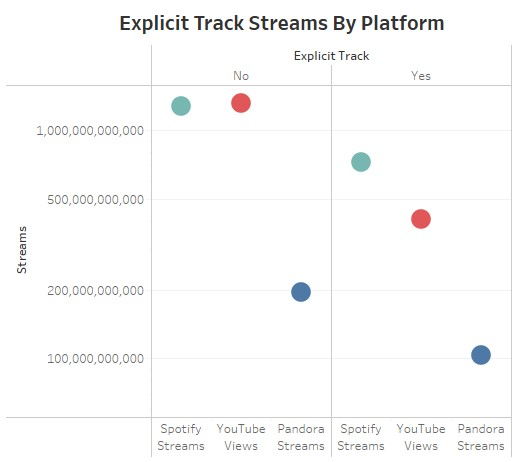

The page's visual inventory and layout, read from the dashboard file:
{"tool":"tableau","page":{"name":"Dashboard 2","canvas":[650,860],"ordinal":1},"visuals":[{"type":"worksheet","title":"Sheet 2","mark":"Shape","cols":["Explicit Track"],"box":[8,12.3,402,835.4]},{"type":"legend","title":"Sheet 2","param":"[federated.1h6t73401fr0ca13ma0oh0mwbdol].[none:Explicit Track:nk]","box":[281,86,196,89.1]}]}

Visuals, with their boxes on the page's 650x860 design canvas (x1, y1, x2, y2). These are canvas units, not pixel positions in the 525x462 screenshot, which may show the page scaled, cropped or inside an application window:
"Sheet 2" worksheet (Shape marks): x1=8 y1=12 x2=410 y2=848
"Sheet 2" legend: x1=281 y1=86 x2=477 y2=175
